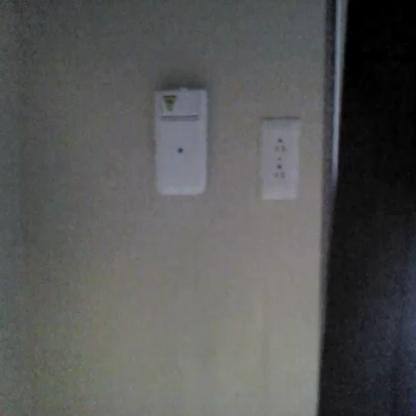OUTLET: (260, 121, 301, 200)
